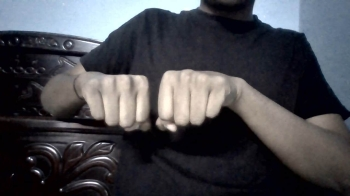hand: (155, 68, 232, 133), (83, 73, 153, 132)
